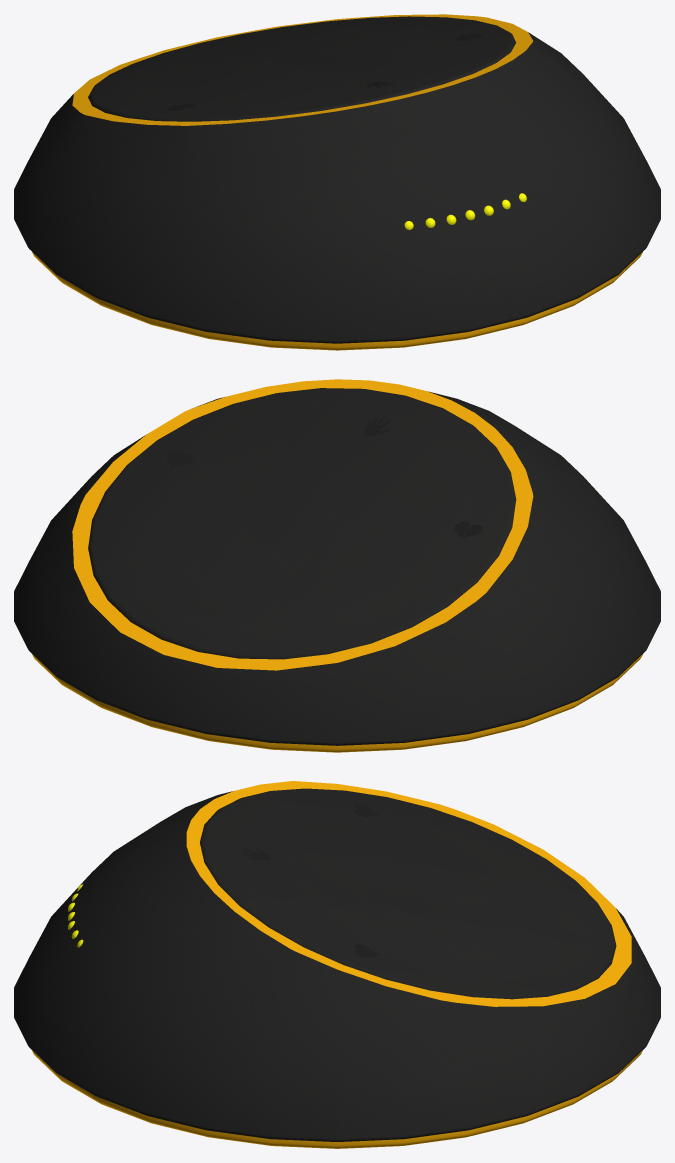
The model's file is Bake_Pod.gltf.
3 renders of one model, top to bottom at view 1: azimuth 30°, elevation 25°; view 2: azimuth 150°, elevation 25°; view 3: azimuth 270°, elevation 25°, orthographic.
Parts seen in each view (by area): view 1: face_visage, BASE_LED, LED_dessous, Sphère_8; view 2: face_visage, BASE_LED, LED_dessous; view 3: face_visage, BASE_LED, LED_dessous.
Boxes of the visible parts, x1,y1,x2,y2 form: face_visage: (14,16,660,343); BASE_LED: (72,14,532,125); LED_dessous: (32,252,642,350); Sphère_8: (404,193,526,229); face_visage: (14,388,660,745); BASE_LED: (72,379,533,670); LED_dessous: (32,654,642,752); face_visage: (14,788,660,1141); BASE_LED: (186,781,631,1006); LED_dessous: (32,1050,642,1148).
Size of the model in its own units: 0.0601 by 0.0182 by 0.0597.
Materials: 7 (7 with a texture image).
